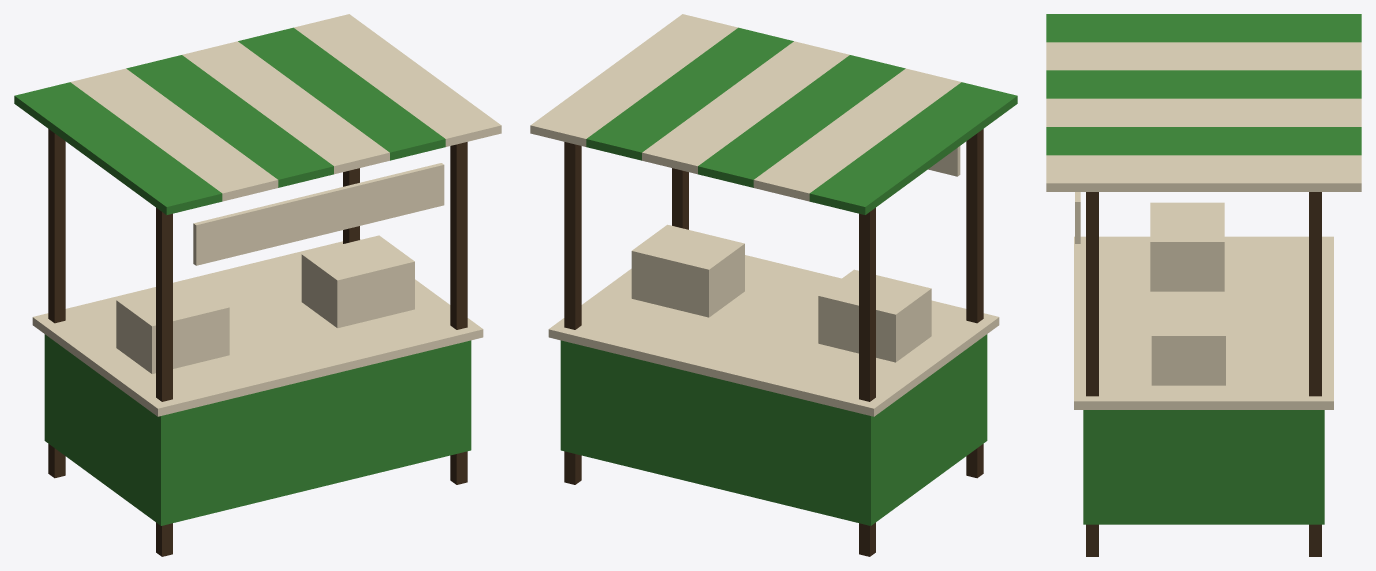
The model's file is prop_marketstall.glb.
3 views of the same model, side by side, from view 1: azimuth 30°, elevation 25°; view 2: azimuth 150°, elevation 25°; view 3: azimuth 270°, elevation 25° (orthographic). The views are drawn at different scales.
Size of the model in its own units: 2.16 by 2.27 by 1.7.
